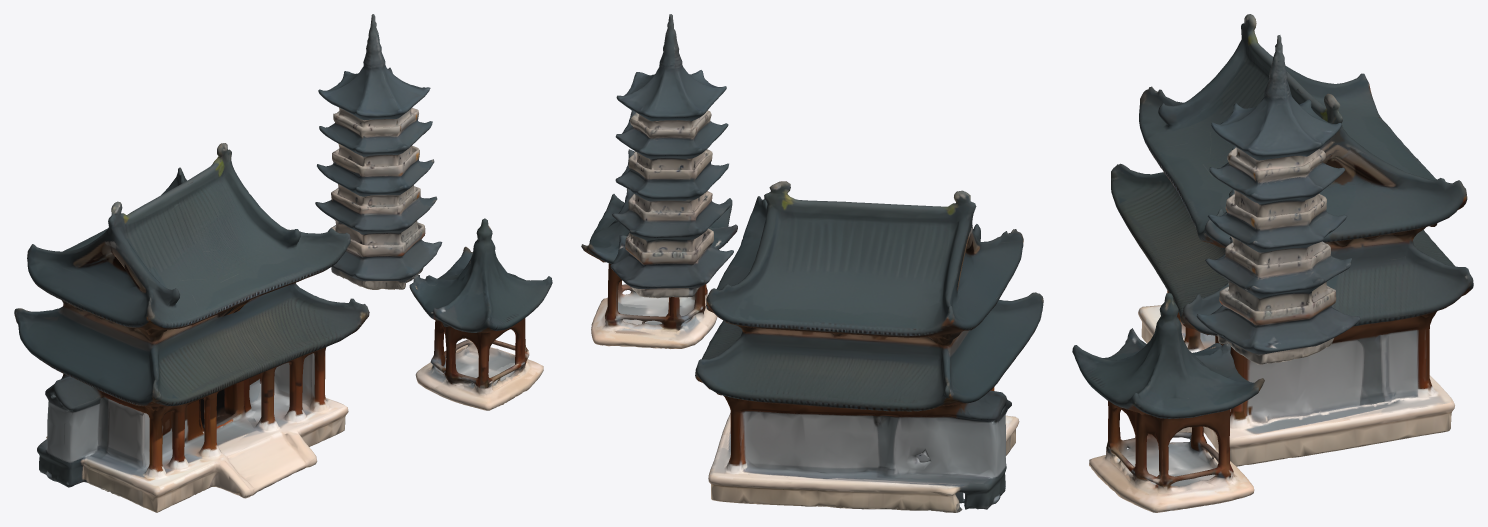
3 renders of one model, left to right at view 1: azimuth 30°, elevation 25°; view 2: azimuth 150°, elevation 25°; view 3: azimuth 270°, elevation 25°, orthographic. The views are drawn at different scales.
Parts seen in each view (by area): view 1: material.001; view 2: material.001; view 3: material.001.
Part boxes in pixels (<box>): material.001: <box>14,14,552,512</box>; material.001: <box>581,14,1043,512</box>; material.001: <box>1072,14,1473,512</box>.
Size of the model in its own units: 0.9204 by 0.7796 by 0.6137.
1 material, 1 textured.
